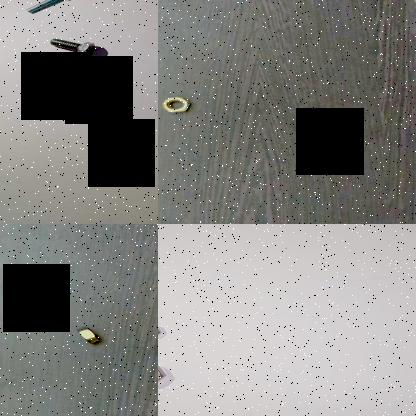Bolts: (62, 86, 104, 119), (45, 35, 100, 58), (23, 0, 73, 15)
NUTS: (70, 324, 106, 348), (158, 93, 196, 113), (158, 321, 166, 339)
